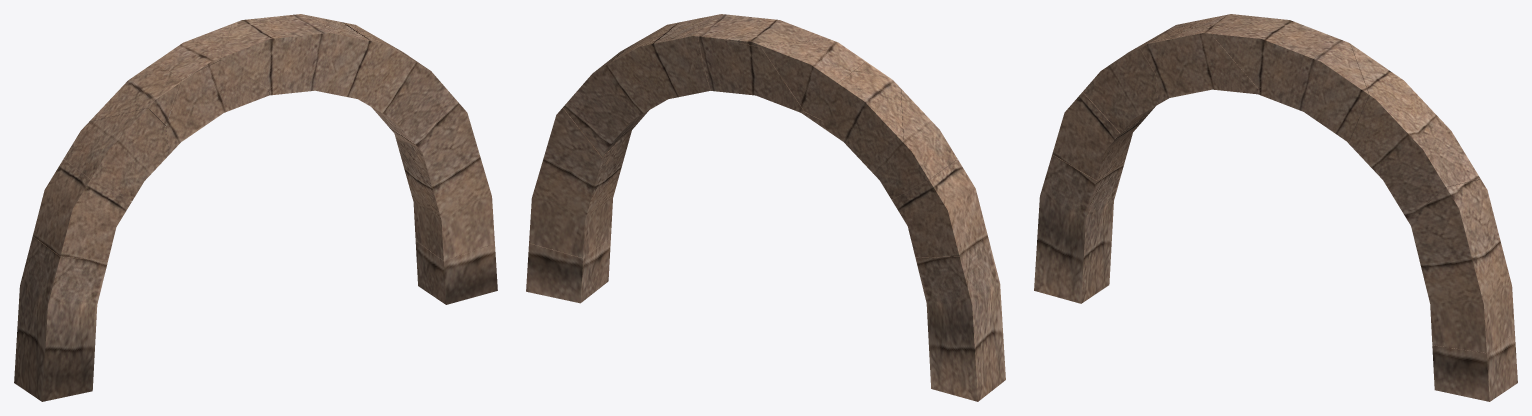
The model's file is Rooftop_Base_Z_Round_Gate_Drop.fbx.
3 renders of one model, left to right at view 1: azimuth 30°, elevation 25°; view 2: azimuth 150°, elevation 25°; view 3: azimuth 330°, elevation 25°, orthographic.
Visible parts, largest first — view 1: Rooftop_Base_Z_Round_Gate.000_cell.008, Rooftop_Base_Z_Round_Gate.000_cell.009, Rooftop_Base_Z_Round_Gate.000_cell.002, Rooftop_Base_Z_Round_Gate.000_cell.001, Rooftop_Base_Z_Round_Gate.000_cell.007, Rooftop_Base_Z_Round_Gate.000_cell.011, Rooftop_Base_Z_Round_Gate.000_cell.006, Rooftop_Base_Z_Round_Gate.000_cell.005, Rooftop_Base_Z_Round_Gate.000_cell.010, Rooftop_Base_Z_Round_Gate.000_cell.003, Rooftop_Base_Z_Round_Gate.000_cell; view 2: Rooftop_Base_Z_Round_Gate.000_cell.008, Rooftop_Base_Z_Round_Gate.000_cell.001, Rooftop_Base_Z_Round_Gate.000_cell.009, Rooftop_Base_Z_Round_Gate.000_cell.002, Rooftop_Base_Z_Round_Gate.000_cell.003, Rooftop_Base_Z_Round_Gate.000_cell, Rooftop_Base_Z_Round_Gate.000_cell.004, Rooftop_Base_Z_Round_Gate.000_cell.007, Rooftop_Base_Z_Round_Gate.000_cell.010, Rooftop_Base_Z_Round_Gate.000_cell.006, Rooftop_Base_Z_Round_Gate.000_cell.011; view 3: Rooftop_Base_Z_Round_Gate.000_cell.009, Rooftop_Base_Z_Round_Gate.000_cell.001, Rooftop_Base_Z_Round_Gate.000_cell.008, Rooftop_Base_Z_Round_Gate.000_cell.011, Rooftop_Base_Z_Round_Gate.000_cell.006, Rooftop_Base_Z_Round_Gate.000_cell.005, Rooftop_Base_Z_Round_Gate.000_cell.002, Rooftop_Base_Z_Round_Gate.000_cell.010, Rooftop_Base_Z_Round_Gate.000_cell.007, Rooftop_Base_Z_Round_Gate.000_cell, Rooftop_Base_Z_Round_Gate.000_cell.003.
Part boxes in pixels (bbox=[...]): Rooftop_Base_Z_Round_Gate.000_cell.008: bbox=[14, 236, 107, 401]; Rooftop_Base_Z_Round_Gate.000_cell.009: bbox=[396, 97, 494, 260]; Rooftop_Base_Z_Round_Gate.000_cell.002: bbox=[33, 159, 131, 260]; Rooftop_Base_Z_Round_Gate.000_cell.001: bbox=[303, 14, 453, 148]; Rooftop_Base_Z_Round_Gate.000_cell.007: bbox=[63, 108, 168, 201]; Rooftop_Base_Z_Round_Gate.000_cell.011: bbox=[268, 14, 376, 99]; Rooftop_Base_Z_Round_Gate.000_cell.006: bbox=[221, 15, 321, 89]; Rooftop_Base_Z_Round_Gate.000_cell.005: bbox=[166, 60, 269, 154]; Rooftop_Base_Z_Round_Gate.000_cell.010: bbox=[415, 241, 497, 304]; Rooftop_Base_Z_Round_Gate.000_cell.003: bbox=[89, 62, 181, 125]; Rooftop_Base_Z_Round_Gate.000_cell: bbox=[155, 24, 232, 87]; Rooftop_Base_Z_Round_Gate.000_cell.008: bbox=[915, 236, 1005, 401]; Rooftop_Base_Z_Round_Gate.000_cell.001: bbox=[563, 23, 710, 157]; Rooftop_Base_Z_Round_Gate.000_cell.009: bbox=[529, 108, 634, 257]; Rooftop_Base_Z_Round_Gate.000_cell.002: bbox=[892, 159, 987, 257]; Rooftop_Base_Z_Round_Gate.000_cell.003: bbox=[822, 63, 903, 173]; Rooftop_Base_Z_Round_Gate.000_cell: bbox=[761, 39, 864, 119]; Rooftop_Base_Z_Round_Gate.000_cell.004: bbox=[698, 36, 803, 114]; Rooftop_Base_Z_Round_Gate.000_cell.007: bbox=[874, 89, 957, 199]; Rooftop_Base_Z_Round_Gate.000_cell.010: bbox=[526, 238, 610, 303]; Rooftop_Base_Z_Round_Gate.000_cell.006: bbox=[701, 14, 828, 47]; Rooftop_Base_Z_Round_Gate.000_cell.011: bbox=[673, 14, 728, 66]; Rooftop_Base_Z_Round_Gate.000_cell.009: bbox=[1407, 179, 1514, 353]; Rooftop_Base_Z_Round_Gate.000_cell.001: bbox=[1348, 44, 1480, 220]; Rooftop_Base_Z_Round_Gate.000_cell.008: bbox=[1034, 154, 1124, 303]; Rooftop_Base_Z_Round_Gate.000_cell.011: bbox=[1258, 41, 1368, 142]; Rooftop_Base_Z_Round_Gate.000_cell.006: bbox=[1212, 19, 1340, 88]; Rooftop_Base_Z_Round_Gate.000_cell.005: bbox=[1156, 36, 1258, 104]; Rooftop_Base_Z_Round_Gate.000_cell.002: bbox=[1052, 92, 1148, 180]; Rooftop_Base_Z_Round_Gate.000_cell.010: bbox=[1432, 333, 1517, 401]; Rooftop_Base_Z_Round_Gate.000_cell.007: bbox=[1083, 47, 1157, 133]; Rooftop_Base_Z_Round_Gate.000_cell: bbox=[1177, 14, 1279, 37]; Rooftop_Base_Z_Round_Gate.000_cell.003: bbox=[1137, 19, 1202, 74].
Size of the model in its own units: 416 by 270 by 47.17.
